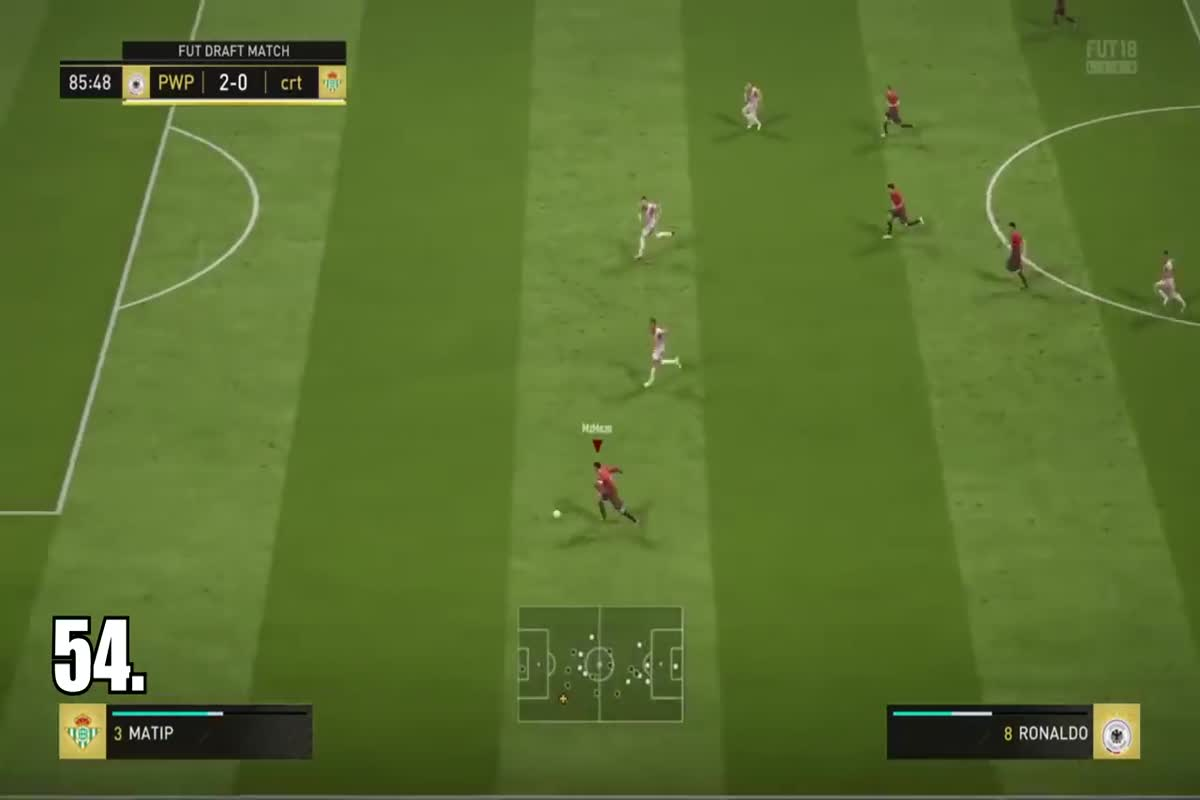ball: (535, 497, 575, 528)
